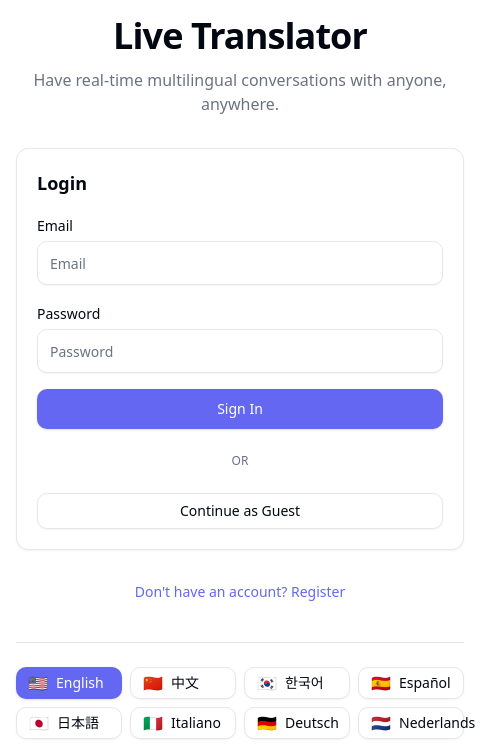
Auth language selector › Login: switches language when clicking a language tile
Expected: the button with test id "login-submit" reads "Sign In", top-left (37, 389), bottom-right (443, 429)
Step 1. Click the button with test id "lang-ja" → (69, 723), box top-left (16, 707), bottom-right (122, 739)
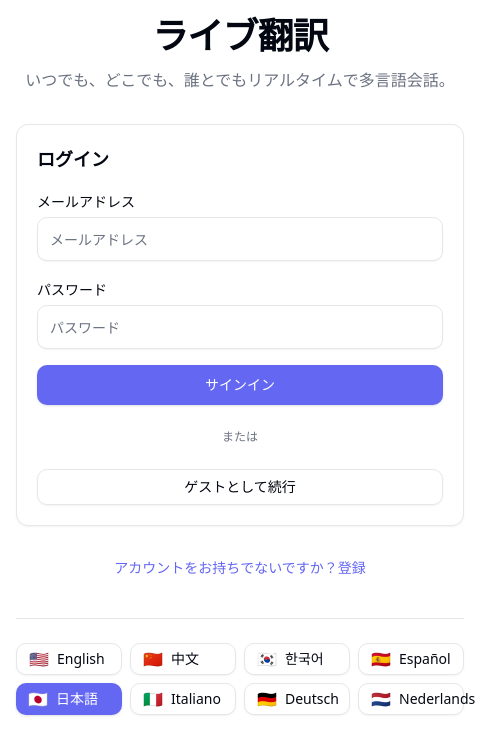
Now the button with test id "login-submit" reads "サインイン", box top-left (37, 365), bottom-right (443, 405)
